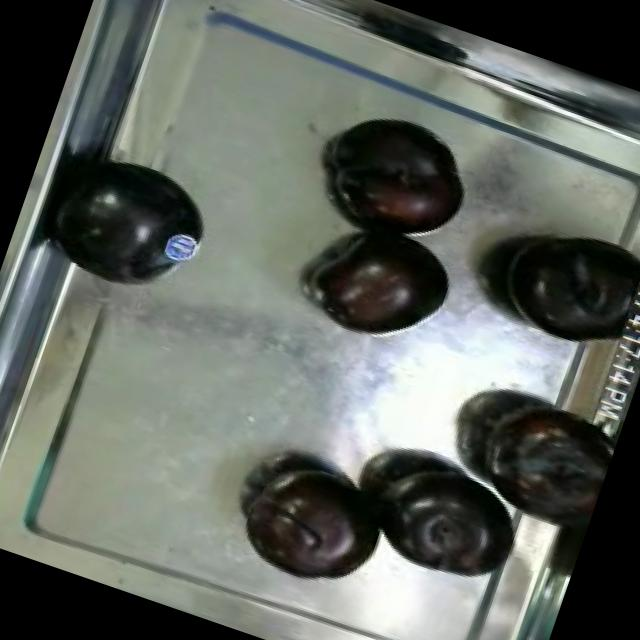Fruit: (308, 94, 486, 250), (361, 438, 534, 598), (477, 203, 640, 365), (298, 212, 468, 366), (225, 442, 392, 598), (477, 390, 622, 548), (152, 218, 210, 278)
